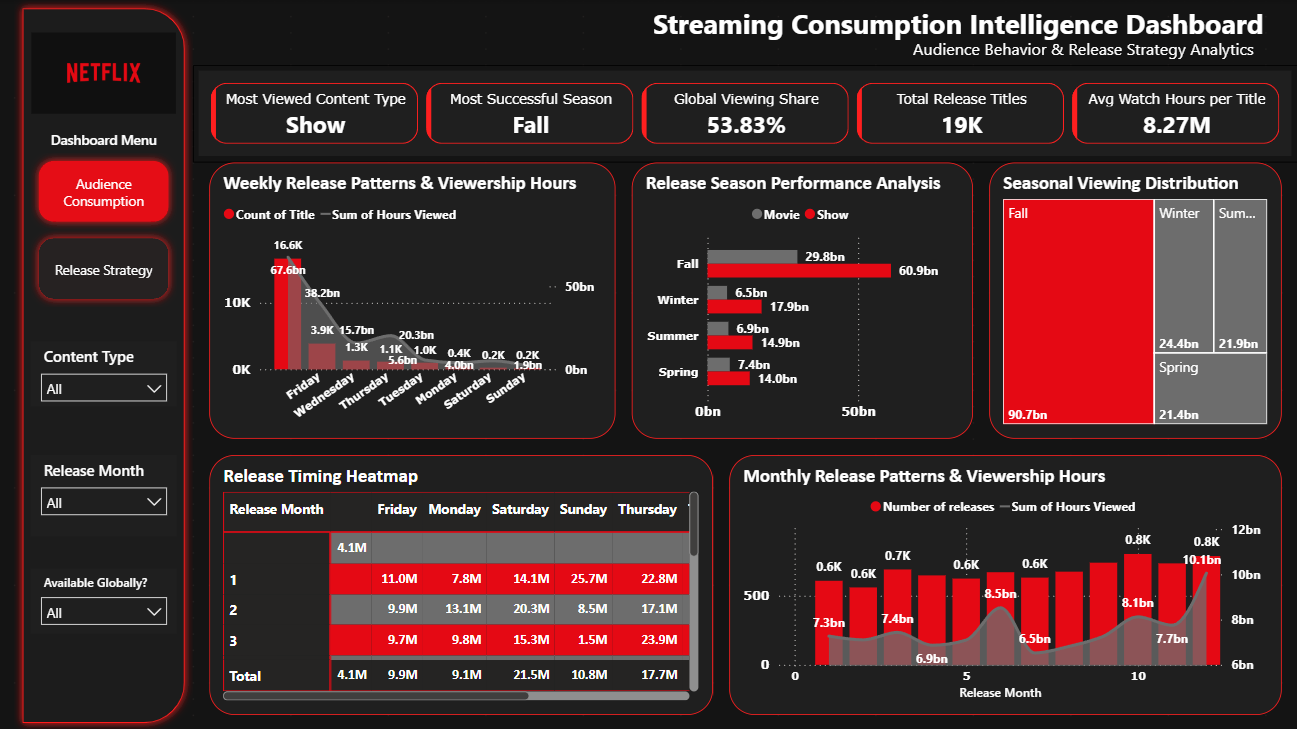

The dashboard page shown, as its layout file describes it:
{"tool":"powerbi","page":{"name":"Release Strategy ","canvas":[1280,720],"ordinal":1},"visuals":[{"type":"shape","box":[16,0,176,720],"z":0},{"type":"pivotTable","title":"Release Timing Heatmap","fields":{"Values":["Avg(streaming_consumption_intelligence.Hours Viewed)"],"Rows":["streaming_consumption_intelligence.Release Month"],"Columns":["streaming_consumption_intelligence.Release Day"]},"box":[208,448,496,256],"z":1000},{"type":"cardVisual","fields":{"Data":["streaming_consumption_intelligence.Most Viewed Content Type","streaming_consumption_intelligence.Most Successful Season","streaming_consumption_intelligence.Global Viewing Share","streaming_consumption_intelligence.Best Release Day","streaming_consumption_intelligence.Avg Watch Hours per Title"]},"box":[192,64,1088,96],"z":3000},{"type":"slicer","fields":{"Values":["streaming_consumption_intelligence.Available Globally?"]},"box":[32,560,144,64],"z":6000},{"type":"pageNavigator","title":"Dashboard Menu","box":[32,128,144,176],"z":7000},{"type":"textbox","box":[640,0,624,48],"z":8000},{"type":"textbox","box":[896,32,368,32],"z":9000},{"type":"image","box":[32,32,144,80],"z":10000},{"type":"clusteredBarChart","title":"Release Season Performance Analysis","fields":{"Y":["Sum(streaming_consumption_intelligence.Hours Viewed)"],"Category":["streaming_consumption_intelligence.Release Season"],"Series":["streaming_consumption_intelligence.Content Type"]},"box":[624,160,336,272],"z":11000},{"type":"treemap","title":"Seasonal Viewing Distribution","fields":{"Values":["Sum(streaming_consumption_intelligence.Hours Viewed)"],"Group":["streaming_consumption_intelligence.Release Season"]},"box":[976,160,288,272],"z":12000},{"type":"slicer","fields":{"Values":["streaming_consumption_intelligence.Release Month"]},"box":[32,448,144,80],"z":13000},{"type":"slicer","fields":{"Values":["streaming_consumption_intelligence.Content Type"]},"box":[32,336,144,64],"z":14000},{"type":"lineClusteredColumnComboChart","title":"Monthly Release Patterns & Viewership Hours","fields":{"Y2":["Sum(streaming_consumption_intelligence.Hours Viewed)"],"Category":["streaming_consumption_intelligence.Release Month"],"Y":["CountNonNull(streaming_consumption_intelligence.Title)"]},"box":[720,448,544,256],"z":15000},{"type":"lineClusteredColumnComboChart","title":"Weekly Release Patterns & Viewership Hours","fields":{"Category":["streaming_consumption_intelligence.Release Day"],"Y":["CountNonNull(streaming_consumption_intelligence.Title)"],"Y2":["Sum(streaming_consumption_intelligence.Hours Viewed)"]},"box":[208,160,400,272],"z":16000}]}

Visuals, with their boxes in screenshot pixels (x1, y1, x2, y2), scaled from the page's 1280x720 canvas onto the 1297x729 screenshot:
shape: 16/0/195/728
"Release Timing Heatmap" pivotTable: 211/454/713/713
cardVisual - streaming_consumption_intelligence.Most Viewed Content Type x streaming_consumption_intelligence.Most Successful Season: 195/65/1296/162
slicer - streaming_consumption_intelligence.Available Globally?: 32/567/178/632
"Dashboard Menu" pageNavigator: 32/130/178/308
textbox: 648/0/1281/49
textbox: 908/32/1281/65
image: 32/32/178/113
"Release Season Performance Analysis" clusteredBarChart: 632/162/973/437
"Seasonal Viewing Distribution" treemap: 989/162/1281/437
slicer - streaming_consumption_intelligence.Release Month: 32/454/178/535
slicer - streaming_consumption_intelligence.Content Type: 32/340/178/405
"Monthly Release Patterns & Viewership Hours" lineClusteredColumnComboChart: 730/454/1281/713
"Weekly Release Patterns & Viewership Hours" lineClusteredColumnComboChart: 211/162/616/437
